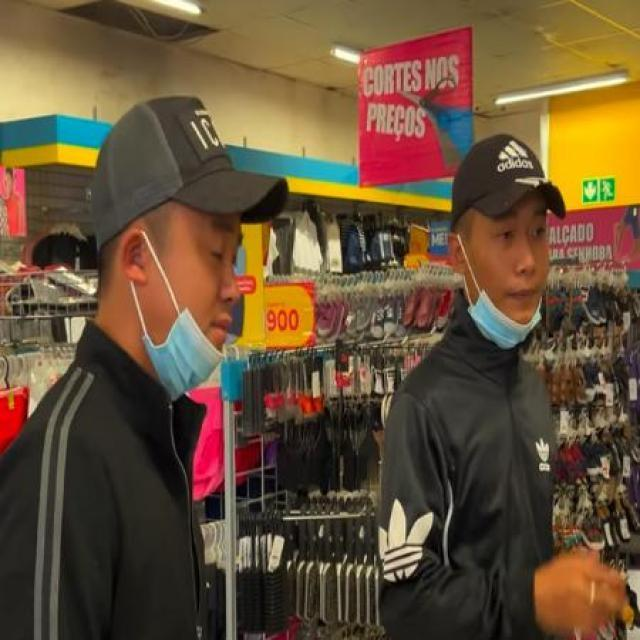hairnet: (155, 216, 233, 394), (468, 216, 544, 347)
